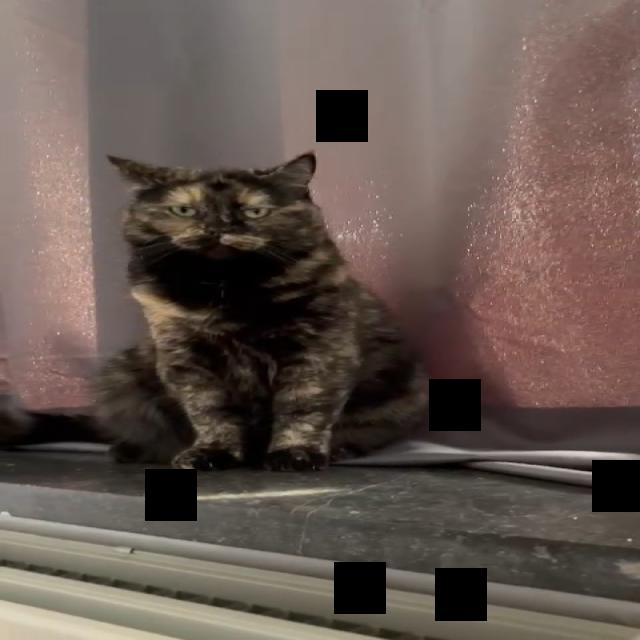authorized: (91, 148, 433, 472)
